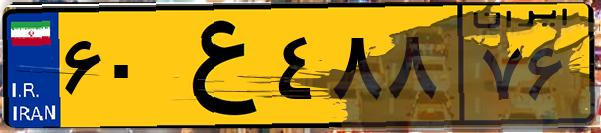0: (110, 28, 158, 98)
4: (270, 28, 330, 110)
6: (57, 26, 110, 100), (525, 38, 570, 115)
7: (475, 38, 525, 113)
8: (385, 28, 445, 110), (330, 28, 385, 110)
ع: (158, 12, 270, 120)
